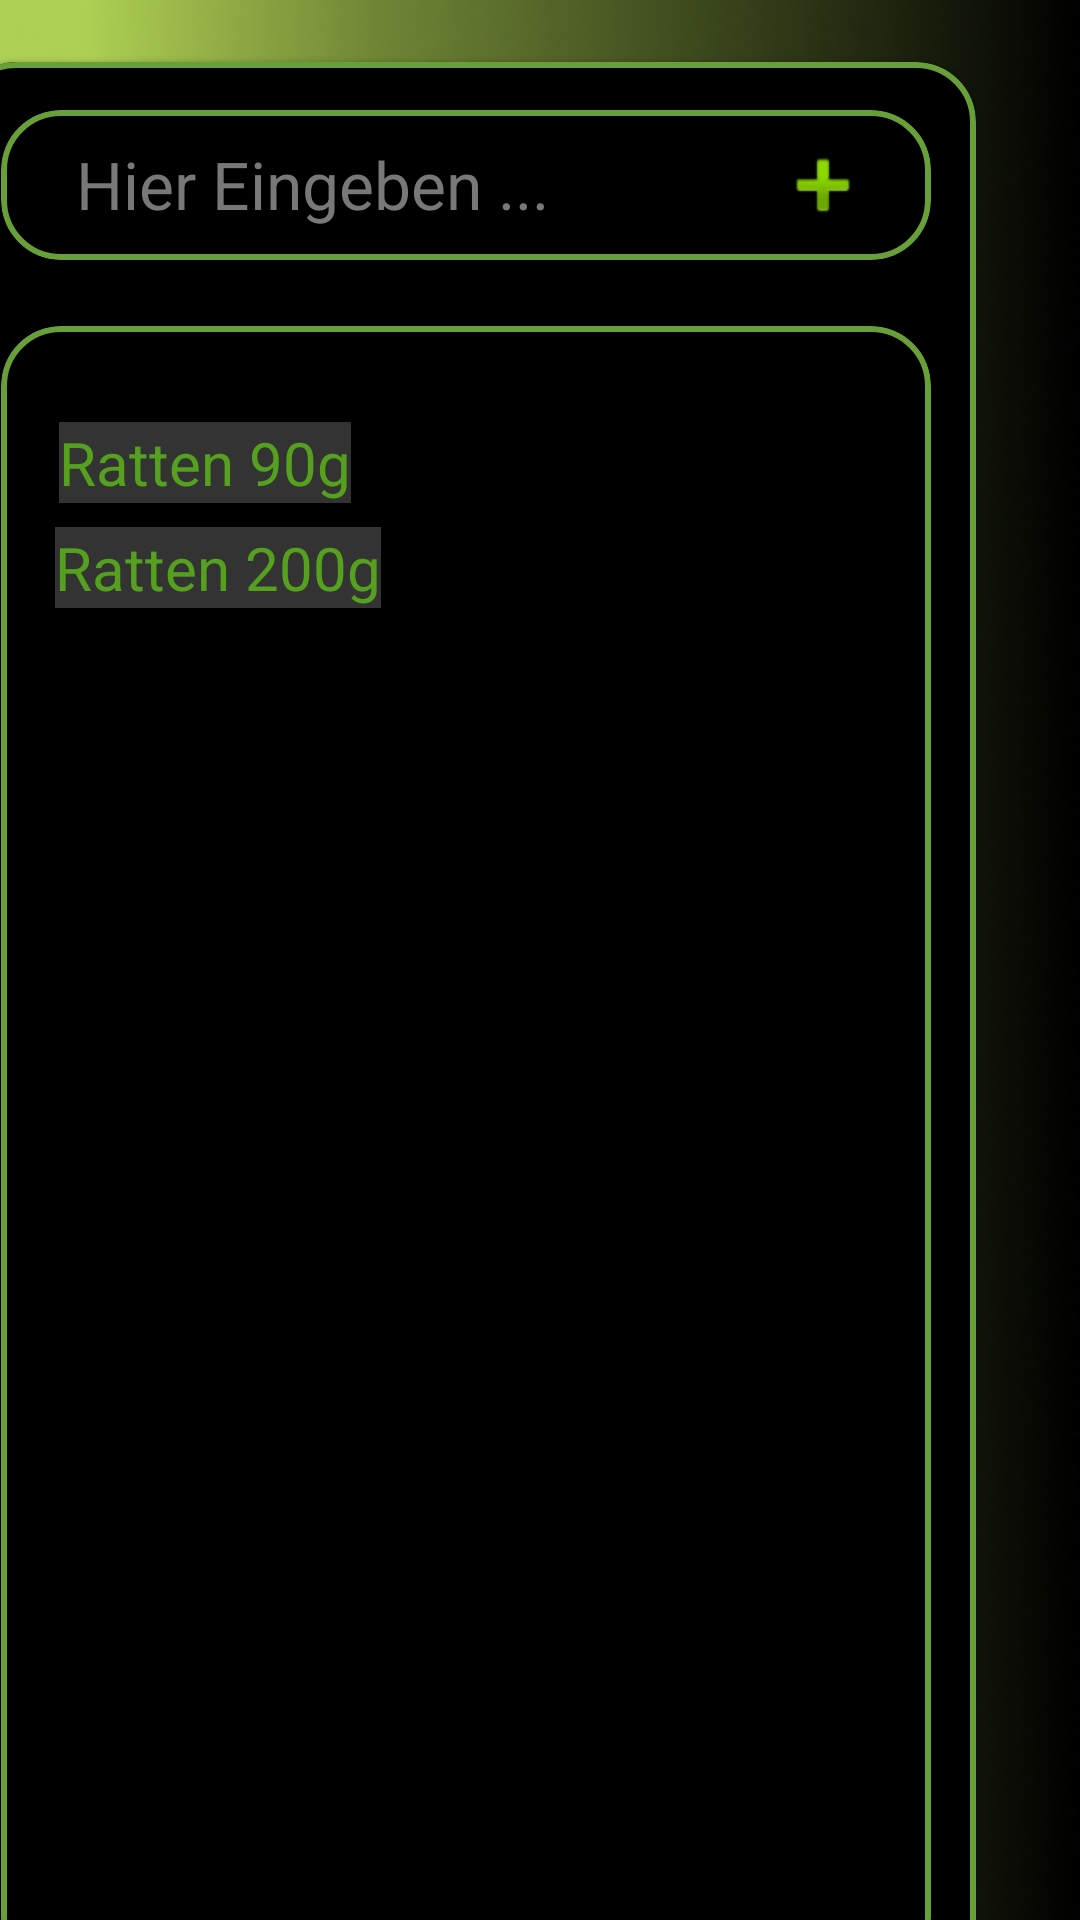

Screen size 1080×1920. Icon name, then its center in pixels as point (x, y):
add: point (823, 185)
